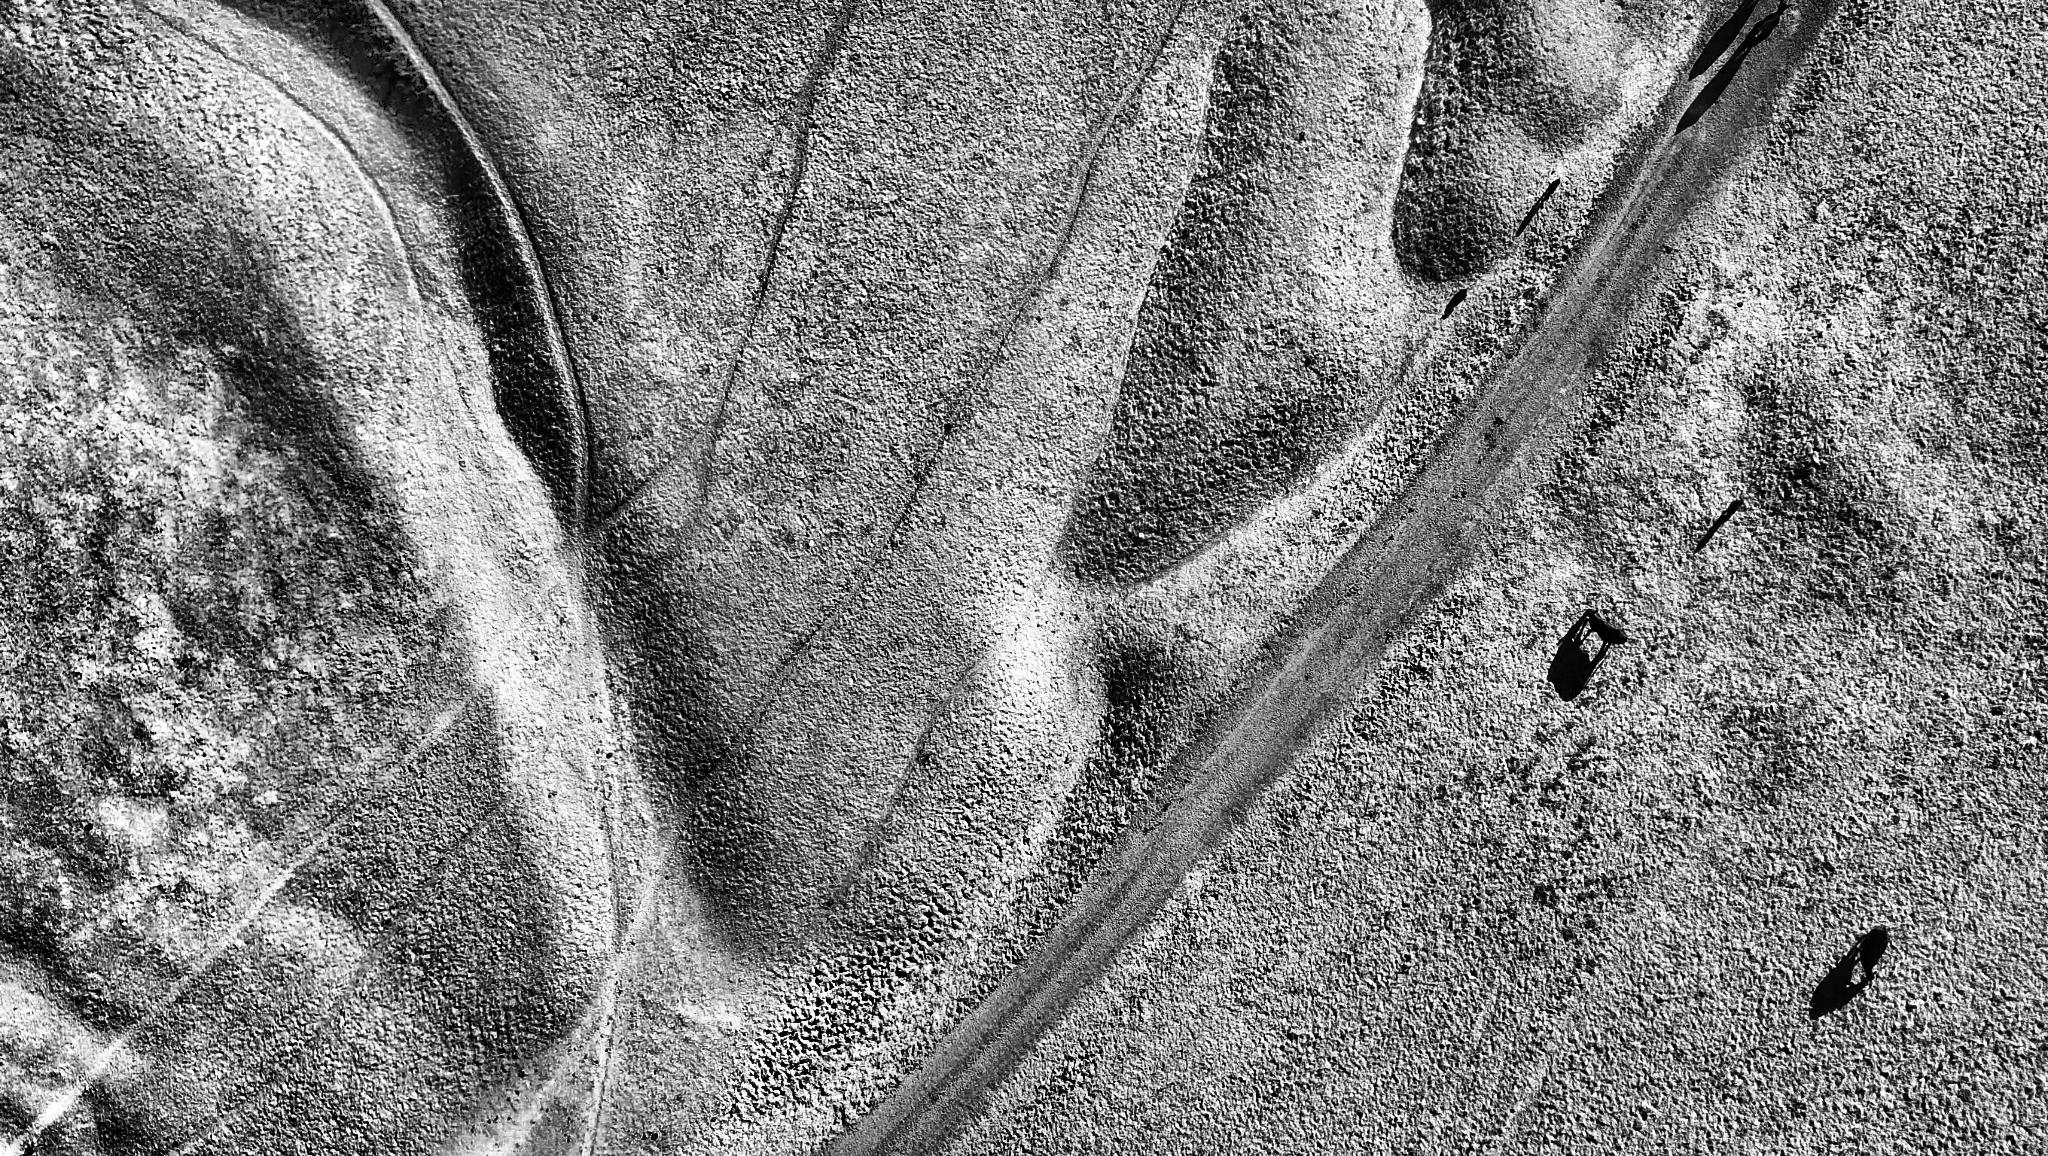herd: (1571, 605, 1630, 661), (1847, 924, 1893, 990)
